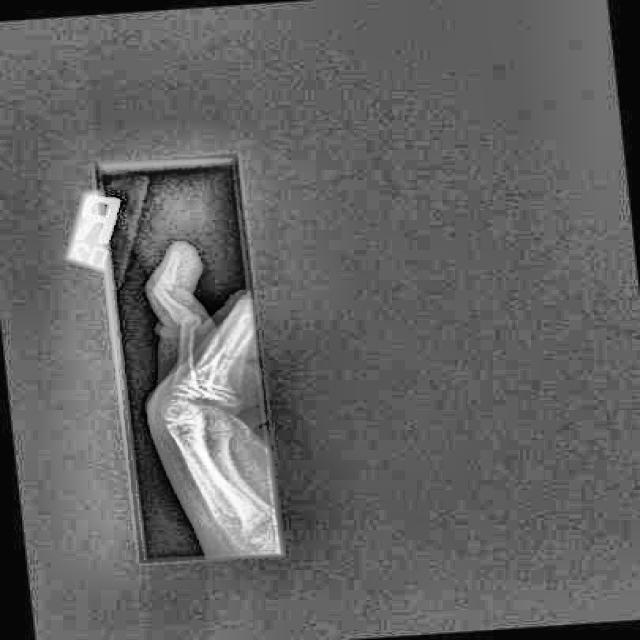fingers positive: (145, 270, 180, 302)
